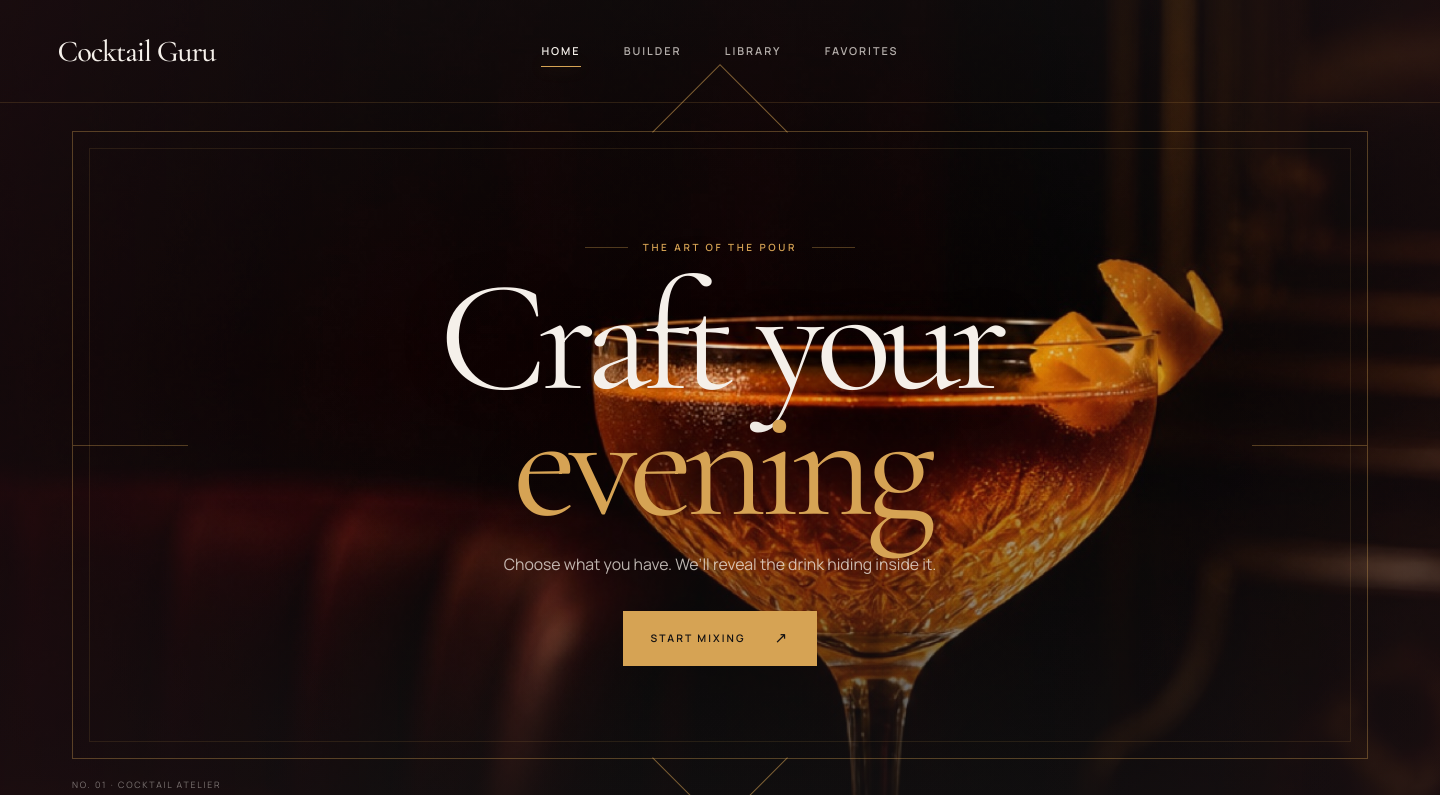
Test: HomePage › sends the primary action to the builder
Click the link "Start mixing ↗".
click(720, 639)  # box [623,611,817,666]
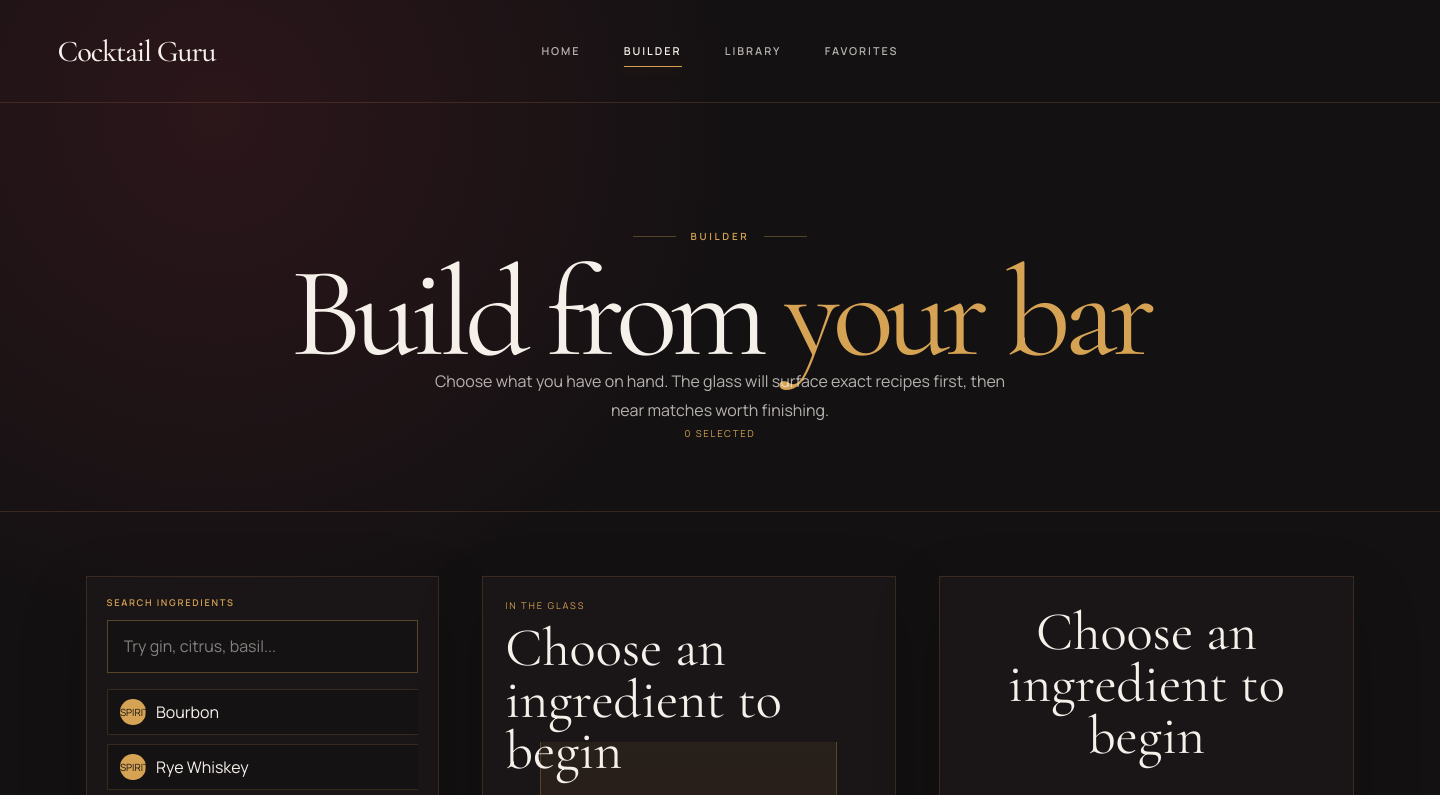
Now the heading "Build from your bar" is shown, box [290,260,1150,367]
